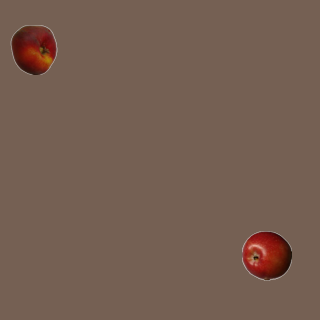Apple Braeburn: (241, 230, 291, 280)
Nectarine Flat: (8, 24, 58, 74)
